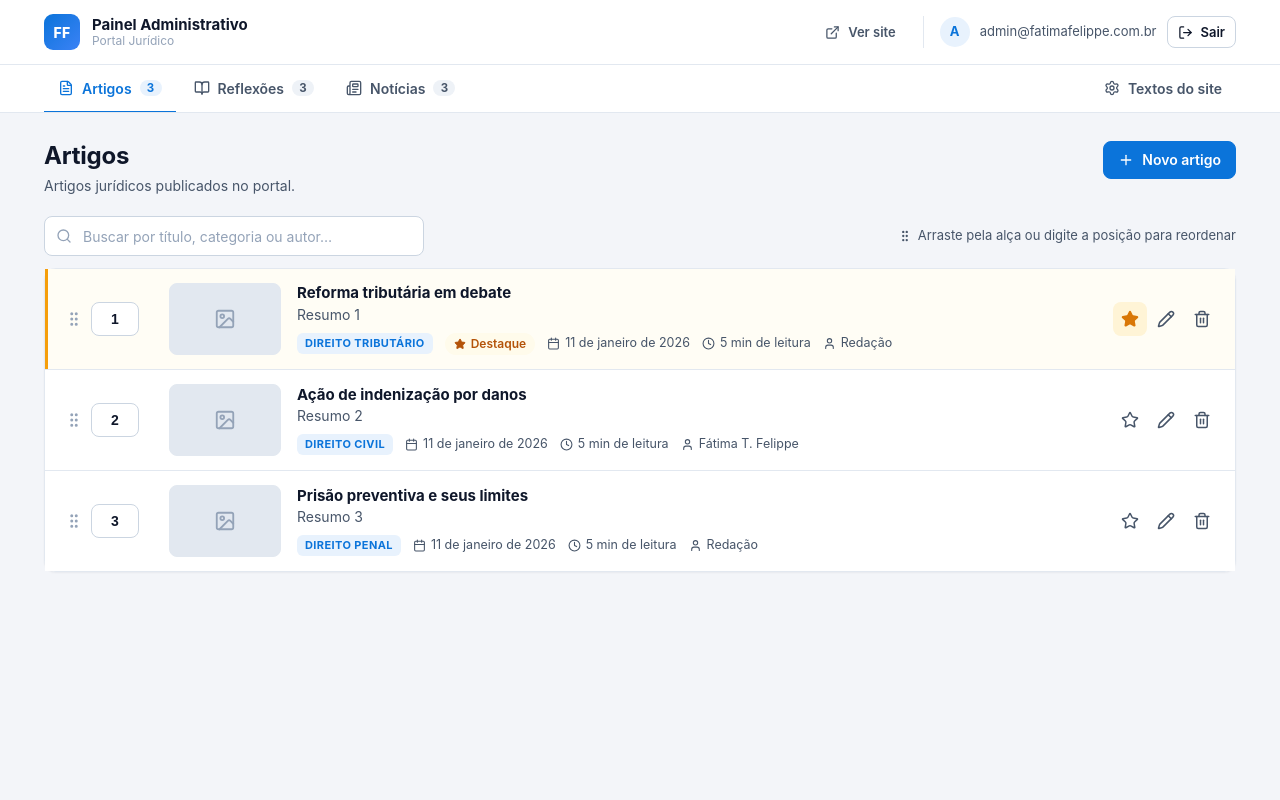
Test: AdminPage › destaque › destacar um item desmarca os outros do mesmo tipo (2 gravações)
Expected: the heading "Reforma tributária em debate" is shown, [297,283,511,302]
Expected: the text "admin@fatimafelippe.com.br" is shown, [980,22,1156,42]
Click the button named "Destacar \"Prisão preventiva e seus limites\"". click: (1130, 521)
box: [1113,504,1147,538]
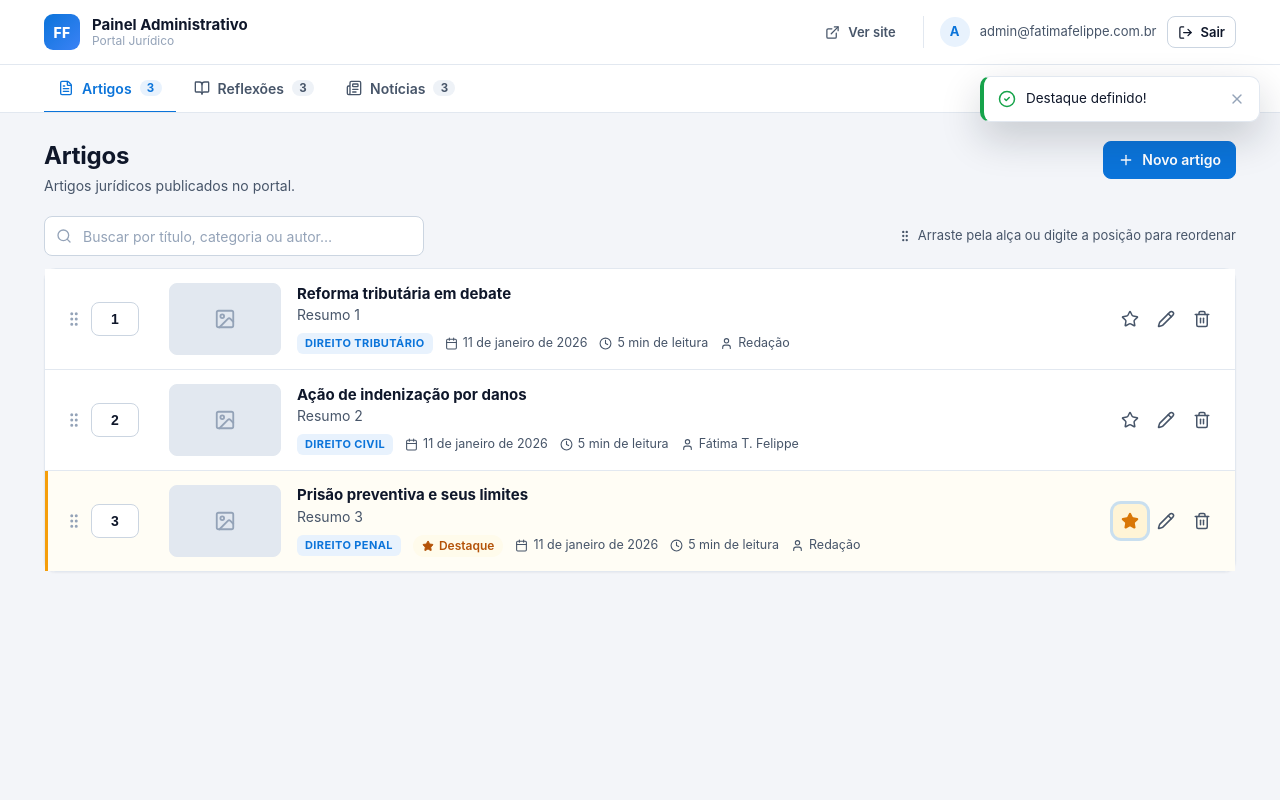
Now the text "Destaque definido!" is shown, box [1026,90,1147,106]
Now the button named "Remover destaque de \"Prisão preventiva e seus limites\"" is shown, box [1113,504,1147,538]
Now the button named "Destacar \"Reforma tributária em debate\"" is shown, box [1113,302,1147,336]
